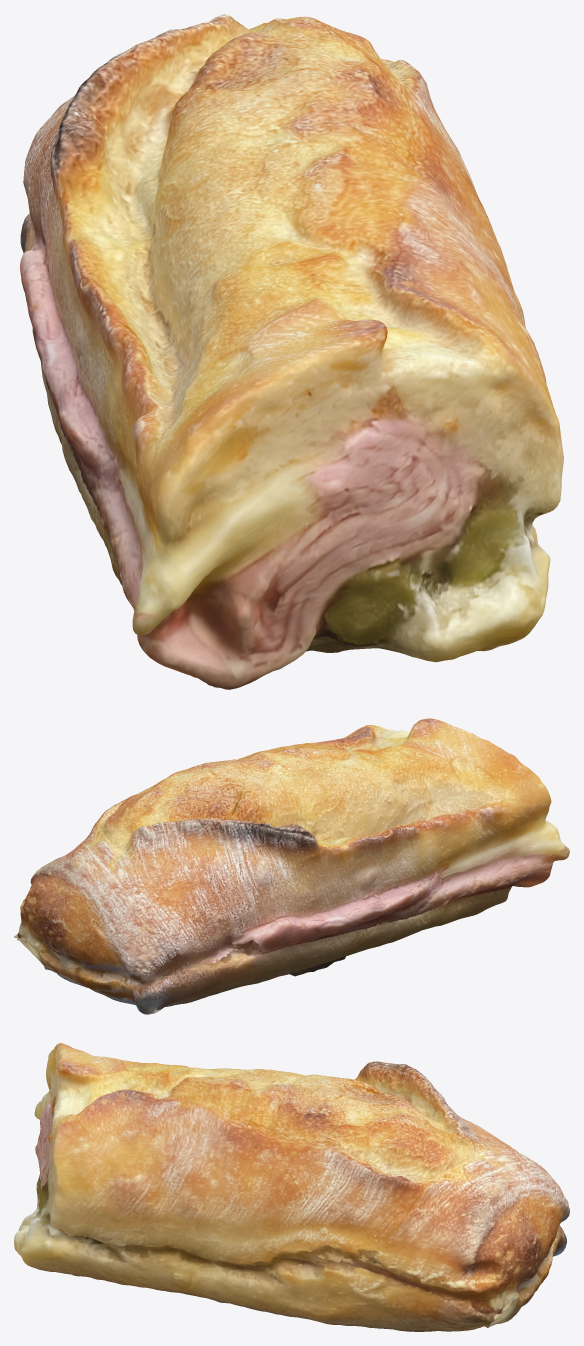
Rendered from petit_parisien_gainsbourg_sandwich.glb.
The picture shows the model from 3 angles, top to bottom: view 1: azimuth 30°, elevation 25°; view 2: azimuth 150°, elevation 25°; view 3: azimuth 270°, elevation 25°; orthographic projection. The views are drawn at different scales.
Visible parts, largest first — view 1: Model; view 2: Model; view 3: Model.
Boxes of the visible parts, <box> form: Model: <box>20,14,563,689</box>; Model: <box>14,718,569,1014</box>; Model: <box>14,1043,569,1331</box>.
Size of the model in its own units: 0.116 by 0.0598 by 0.1464.
1 material, 1 textured.
